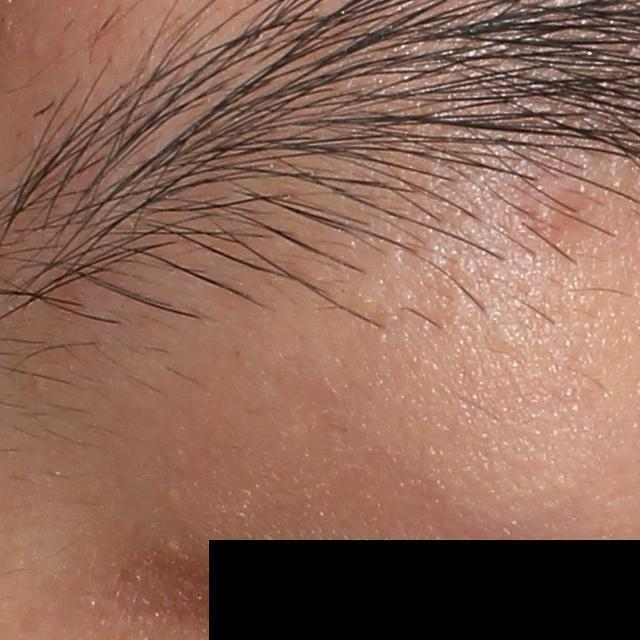papule: (527, 184, 589, 240)
